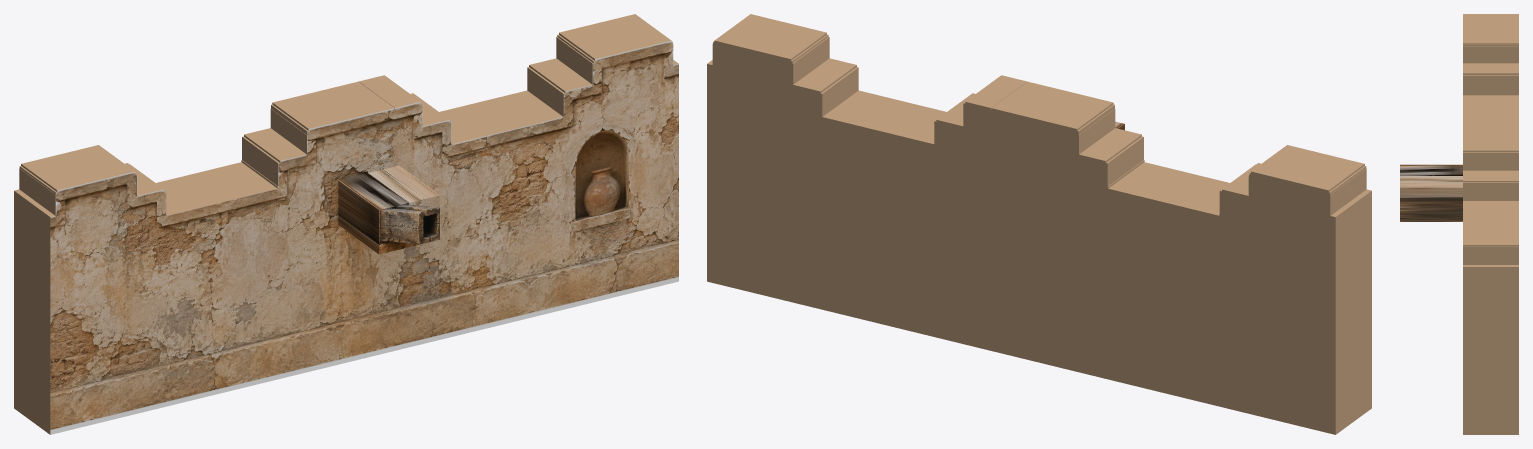
The model's file is cai_house_roofline.glb.
3 renders of one model, left to right at view 1: azimuth 30°, elevation 25°; view 2: azimuth 150°, elevation 25°; view 3: azimuth 270°, elevation 25°, orthographic. The views are drawn at different scales.
Parts seen in each view (by area): view 1: module; view 2: module; view 3: module.
Boxes of the visible parts, left/top/right/bottom form: module: left=14, top=14, right=678, bottom=434; module: left=707, top=14, right=1371, bottom=434; module: left=1400, top=14, right=1518, bottom=434.
Size of the model in its own units: 4 by 1.48 by 0.85.
Materials: 2 (1 with a texture image).
